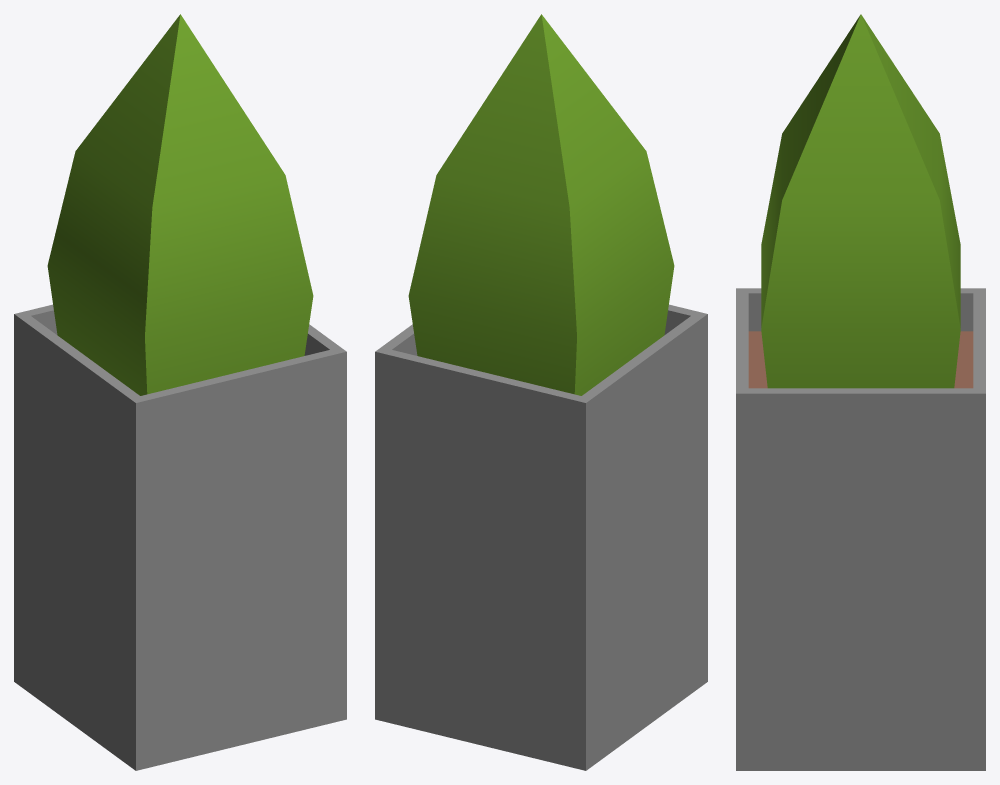
File: deco_02.fbx
The picture shows the model from 3 angles, left to right: view 1: azimuth 30°, elevation 25°; view 2: azimuth 150°, elevation 25°; view 3: azimuth 270°, elevation 25°; orthographic projection. The views are drawn at different scales.
Visible parts, largest first — view 1: deco_02; view 2: deco_02; view 3: deco_02.
Part boxes in pixels (<box>): deco_02: <box>14,14,346,770</box>; deco_02: <box>375,14,707,770</box>; deco_02: <box>736,14,985,770</box>.
Bounding box in the file's own units: 0.6 × 1.87 × 0.6.
